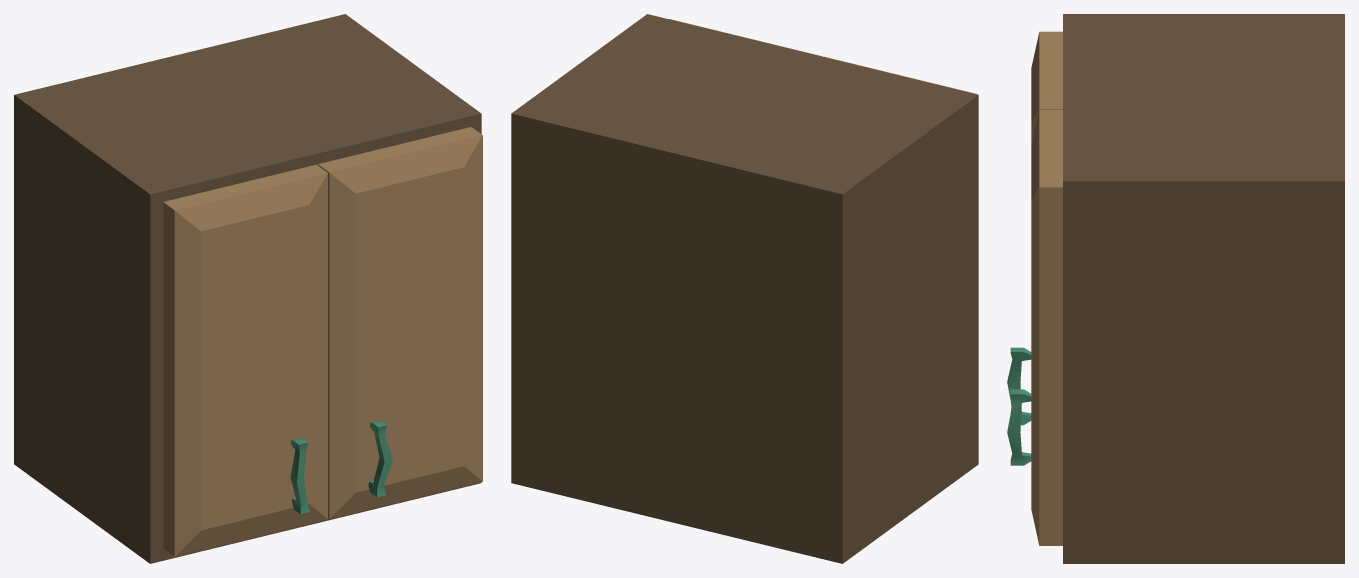
Rendered from cupboard_3_low.fbx.
3 renders of one model, left to right at view 1: azimuth 30°, elevation 25°; view 2: azimuth 150°, elevation 25°; view 3: azimuth 270°, elevation 25°, orthographic. The views are drawn at different scales.
Parts seen in each view (by area): view 1: cupboard_door3_low, cupboard_base_low, cupboard_handle_3_low; view 2: cupboard_base_low; view 3: cupboard_base_low, cupboard_door3_low, cupboard_handle_3_low.
Part boxes in pixels (x1,y1,x2,y2): cupboard_door3_low: [163, 127, 482, 556]; cupboard_base_low: [14, 14, 481, 563]; cupboard_handle_3_low: [290, 420, 392, 514]; cupboard_base_low: [511, 14, 978, 563]; cupboard_base_low: [1063, 14, 1344, 563]; cupboard_door3_low: [1031, 31, 1062, 545]; cupboard_handle_3_low: [1007, 347, 1031, 465].
Bounding box in the file's own units: 5.9 × 6.29 × 5.03.
